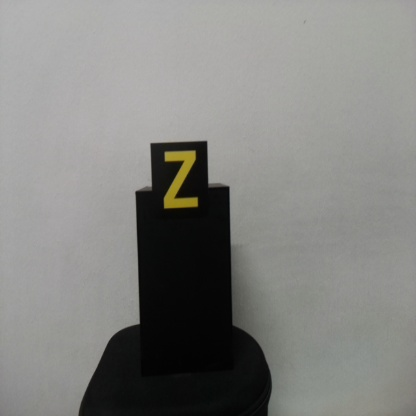id_15: (150, 143, 208, 222)
